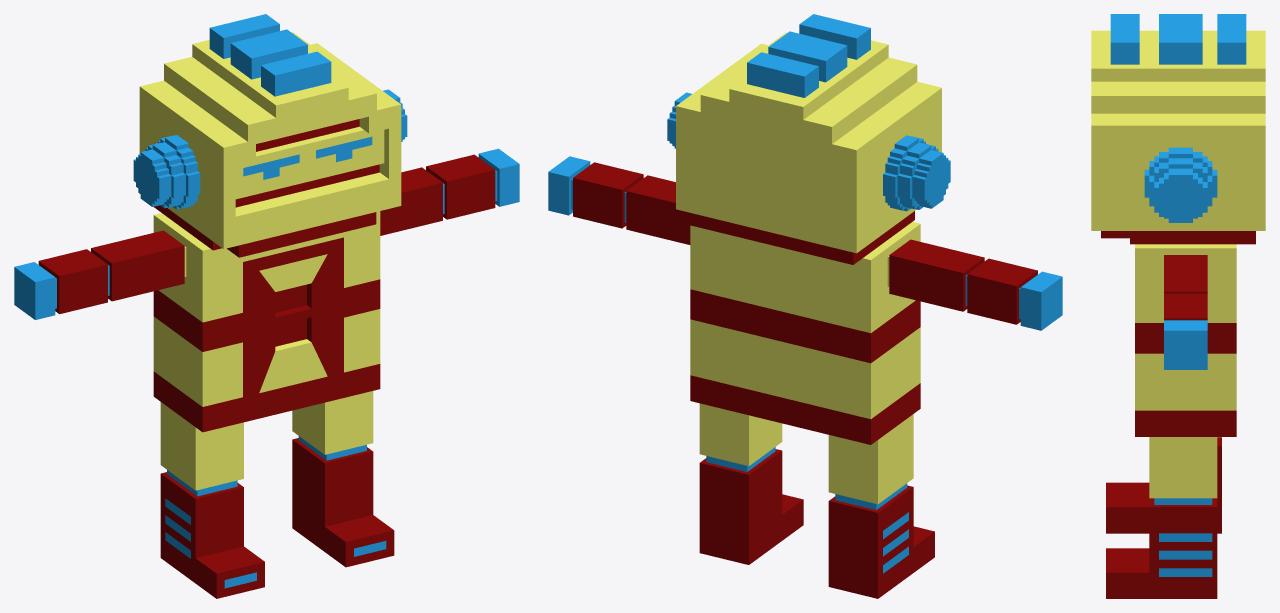
The model's file is BadRobo_2.FBX.
The picture shows the model from 3 angles, left to right: view 1: azimuth 30°, elevation 25°; view 2: azimuth 150°, elevation 25°; view 3: azimuth 270°, elevation 25°; orthographic projection. The views are drawn at different scales.
Parts seen in each view (by area): view 1: badRobo_2; view 2: badRobo_2; view 3: badRobo_2.
Part boxes in pixels (left/top/right/bottom): badRobo_2: left=14, top=14, right=519, bottom=598; badRobo_2: left=548, top=14, right=1062, bottom=598; badRobo_2: left=1091, top=14, right=1265, bottom=598.
Bounding box in the file's own units: 120 × 36 × 120.
